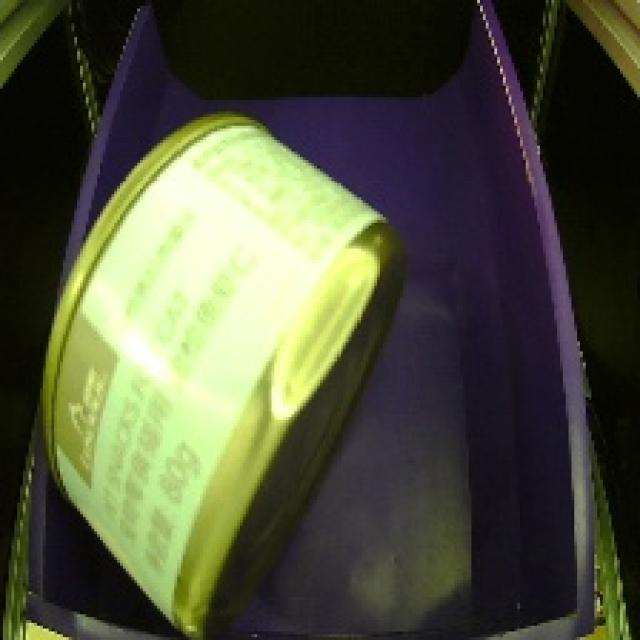metal: (26, 99, 416, 640)
